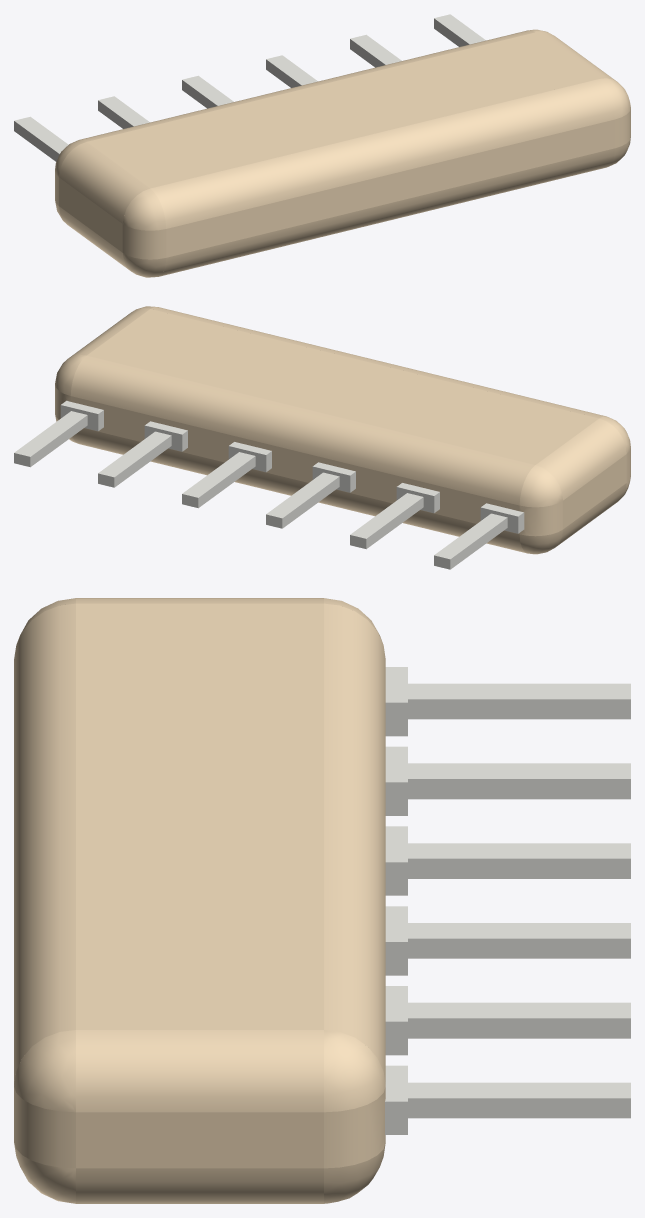
Rendered from R_Array_SIP6.glb.
3 renders of one model, top to bottom at view 1: azimuth 30°, elevation 25°; view 2: azimuth 150°, elevation 25°; view 3: azimuth 270°, elevation 25°, orthographic. The views are drawn at different scales.
Visible parts, largest first — view 1: Shape_IndexedFaceSet.047, Shape_IndexedFaceSet.017, Shape_IndexedFaceSet.007, Shape_IndexedFaceSet.003, Shape_IndexedFaceSet.019, Shape_IndexedFaceSet.025, Shape_IndexedFaceSet.010, Shape_IndexedFaceSet.045, Shape_IndexedFaceSet.015, Shape_IndexedFaceSet.004, Shape_IndexedFaceSet.021, Shape_IndexedFaceSet.060 (+9 smaller); view 2: Shape_IndexedFaceSet.047, Shape_IndexedFaceSet.025, Shape_IndexedFaceSet.014, Shape_IndexedFaceSet.006, Shape_IndexedFaceSet.019, Shape_IndexedFaceSet.017, Shape_IndexedFaceSet.010, Shape_IndexedFaceSet.049, Shape_IndexedFaceSet.018, Shape_IndexedFaceSet.068, Shape_IndexedFaceSet.060, Shape_IndexedFaceSet.064 (+19 smaller); view 3: Shape_IndexedFaceSet.047, Shape_IndexedFaceSet.017, Shape_IndexedFaceSet.025, Shape_IndexedFaceSet.021, Shape_IndexedFaceSet.012, Shape_IndexedFaceSet.005, Shape_IndexedFaceSet.061, Shape_IndexedFaceSet.065, Shape_IndexedFaceSet.069, Shape_IndexedFaceSet.073, Shape_IndexedFaceSet.077, Shape_IndexedFaceSet.081 (+19 smaller).
Boxes of the visible parts, x1=… form: Shape_IndexedFaceSet.047: x1=87, y1=32, x2=598, y2=188; Shape_IndexedFaceSet.017: x1=150, y1=79, x2=614, y2=228; Shape_IndexedFaceSet.007: x1=166, y1=119, x2=614, y2=257; Shape_IndexedFaceSet.003: x1=159, y1=148, x2=614, y2=276; Shape_IndexedFaceSet.019: x1=59, y1=142, x2=149, y2=223; Shape_IndexedFaceSet.025: x1=79, y1=30, x2=534, y2=141; Shape_IndexedFaceSet.010: x1=59, y1=177, x2=122, y2=252; Shape_IndexedFaceSet.045: x1=123, y1=188, x2=166, y2=230; Shape_IndexedFaceSet.015: x1=122, y1=224, x2=166, y2=259; Shape_IndexedFaceSet.004: x1=59, y1=206, x2=129, y2=270; Shape_IndexedFaceSet.021: x1=536, y1=31, x2=617, y2=81; Shape_IndexedFaceSet.060: x1=14, y1=116, x2=68, y2=153; Shape_IndexedFaceSet.047: x1=87, y1=309, x2=598, y2=464; Shape_IndexedFaceSet.025: x1=70, y1=355, x2=534, y2=505; Shape_IndexedFaceSet.014: x1=70, y1=396, x2=519, y2=534; Shape_IndexedFaceSet.006: x1=72, y1=428, x2=526, y2=553; Shape_IndexedFaceSet.019: x1=536, y1=418, x2=626, y2=500; Shape_IndexedFaceSet.017: x1=151, y1=307, x2=606, y2=418; Shape_IndexedFaceSet.010: x1=563, y1=454, x2=626, y2=529; Shape_IndexedFaceSet.049: x1=519, y1=465, x2=562, y2=507; Shape_IndexedFaceSet.018: x1=519, y1=501, x2=562, y2=536; Shape_IndexedFaceSet.068: x1=266, y1=472, x2=339, y2=518; Shape_IndexedFaceSet.060: x1=434, y1=513, x2=507, y2=559; Shape_IndexedFaceSet.064: x1=14, y1=411, x2=87, y2=456; Shape_IndexedFaceSet.047: x1=76, y1=603, x2=323, y2=1029; Shape_IndexedFaceSet.017: x1=14, y1=603, x2=75, y2=1084; Shape_IndexedFaceSet.025: x1=324, y1=603, x2=385, y2=1083; Shape_IndexedFaceSet.021: x1=76, y1=1030, x2=323, y2=1112; Shape_IndexedFaceSet.012: x1=76, y1=1112, x2=323, y2=1168; Shape_IndexedFaceSet.005: x1=76, y1=1168, x2=323, y2=1203; Shape_IndexedFaceSet.061: x1=408, y1=699, x2=630, y2=719; Shape_IndexedFaceSet.065: x1=408, y1=1098, x2=630, y2=1118; Shape_IndexedFaceSet.069: x1=408, y1=858, x2=630, y2=878; Shape_IndexedFaceSet.073: x1=408, y1=938, x2=630, y2=958; Shape_IndexedFaceSet.077: x1=408, y1=779, x2=630, y2=799; Shape_IndexedFaceSet.081: x1=408, y1=1018, x2=630, y2=1038.
Size of the model in its own units: 6 by 0.988 by 3.27.
